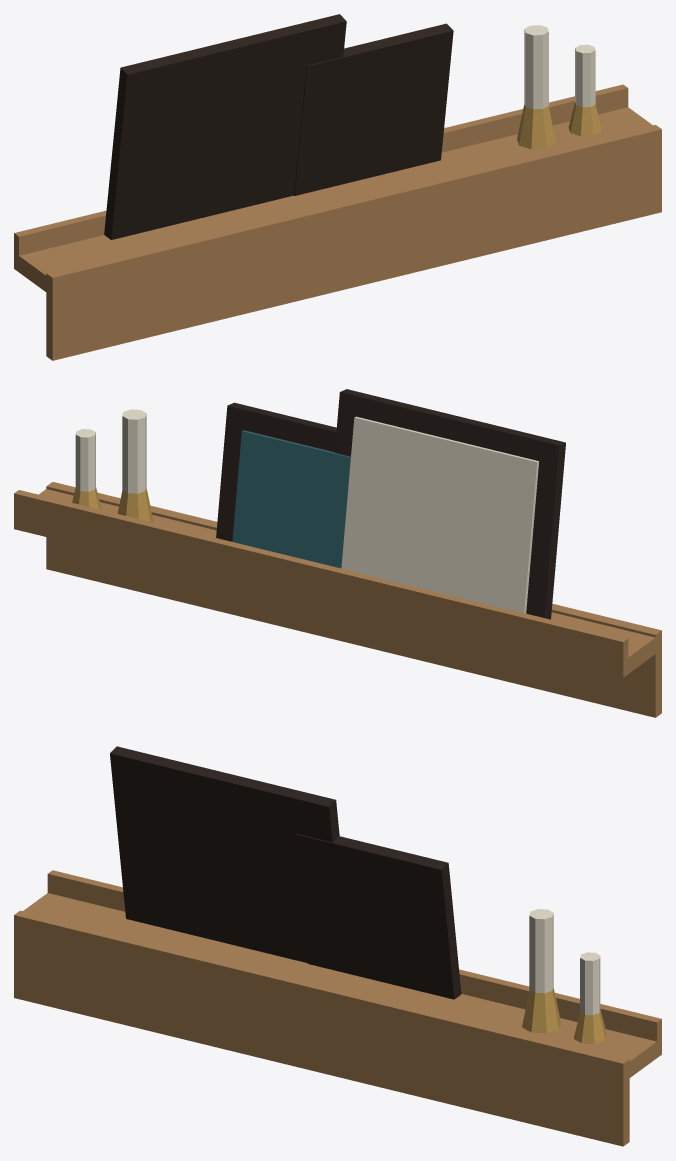
The model's file is FN_Ledge_Picture.obj.
3 views of the same model, one above another, from view 1: azimuth 30°, elevation 25°; view 2: azimuth 150°, elevation 25°; view 3: azimuth 330°, elevation 25° (orthographic).
Visible parts, largest first — view 1: FN_Ledge_Picture; view 2: FN_Ledge_Picture; view 3: FN_Ledge_Picture.
Boxes of the visible parts, x1,y1,x2,y2 form: FN_Ledge_Picture: [14, 14, 661, 360]; FN_Ledge_Picture: [14, 389, 661, 717]; FN_Ledge_Picture: [14, 746, 661, 1146].
Bounding box in the file's own units: 1 × 0.4073 × 0.11.
Materials: 1 (1 with a texture image).
